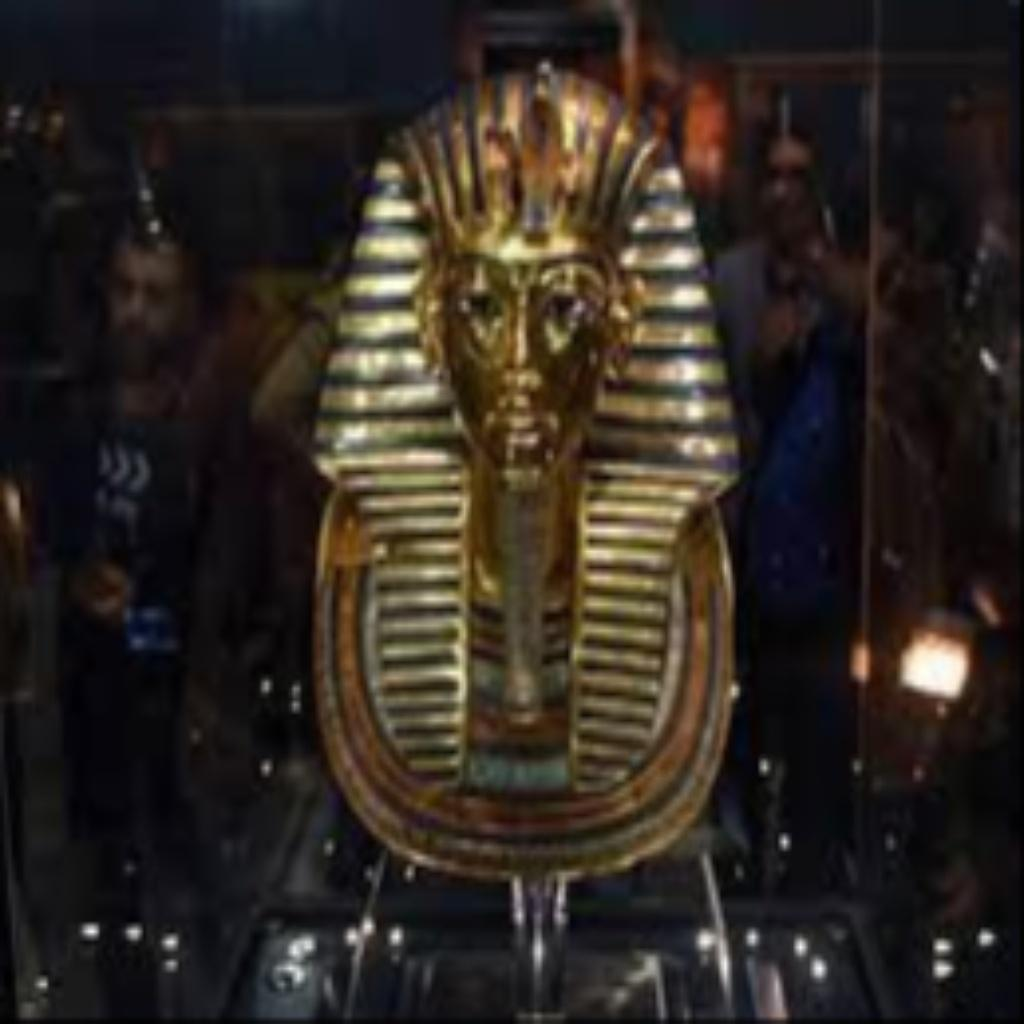Mask of Tutankhamun: (312, 58, 736, 876)
